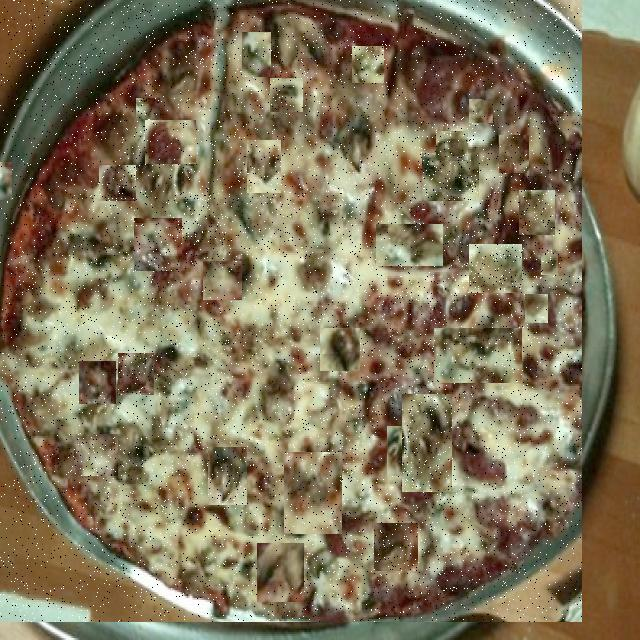Mushrooms: (402, 394, 452, 492), (434, 328, 522, 383), (284, 452, 342, 534), (296, 372, 352, 443), (232, 355, 285, 424), (270, 175, 316, 253), (257, 544, 304, 604), (376, 224, 443, 266), (422, 153, 479, 201), (469, 244, 522, 293), (168, 192, 221, 241), (134, 218, 182, 271), (208, 447, 247, 505), (374, 523, 418, 571), (74, 434, 118, 476), (247, 140, 281, 193), (320, 328, 360, 371), (519, 190, 555, 235), (79, 361, 116, 404), (203, 261, 242, 300), (118, 353, 154, 395), (99, 165, 136, 201), (242, 32, 271, 77), (387, 426, 411, 476), (352, 46, 384, 83), (499, 135, 529, 173), (270, 78, 303, 112), (436, 131, 468, 161), (16, 99, 40, 138), (136, 98, 160, 135), (526, 294, 550, 323), (0, 420, 14, 468), (469, 99, 493, 123), (322, 39, 343, 65), (0, 162, 12, 200), (541, 253, 558, 275)
Pepperoni: (145, 120, 196, 164), (79, 143, 117, 169)
Pizza: (0, 0, 582, 622)
